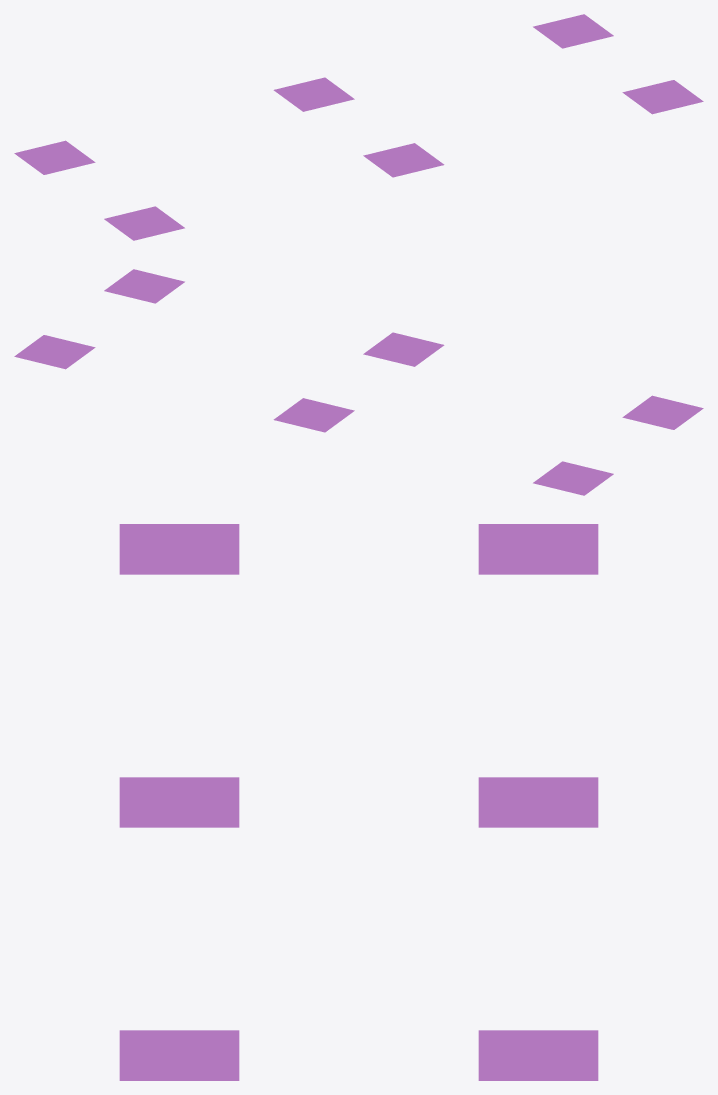
Rendered from sm_Stationfloor.fbx.
3 renders of one model, top to bottom at view 1: azimuth 30°, elevation 25°; view 2: azimuth 150°, elevation 25°; view 3: azimuth 270°, elevation 25°, orthographic. The views are drawn at different scales.
Parts seen in each view (by area): view 1: sm_KitchenFloor04__4_, sm_KitchenFloor04__1_, sm_KitchenFloor04__5_, sm_KitchenFloor04__2_, sm_KitchenFloor04__6_, sm_KitchenFloor04__3_; view 2: sm_KitchenFloor04__6_, sm_KitchenFloor04__3_, sm_KitchenFloor04__5_, sm_KitchenFloor04__2_, sm_KitchenFloor04__4_, sm_KitchenFloor04__1_; view 3: sm_KitchenFloor04__6_, sm_KitchenFloor04__5_, sm_KitchenFloor04__4_, sm_KitchenFloor04__3_, sm_KitchenFloor04__2_, sm_KitchenFloor04__1_.
Part boxes in pixels (x1=…): sm_KitchenFloor04__4_: x1=533, y1=14, x2=613, y2=48; sm_KitchenFloor04__1_: x1=104, y1=206, x2=184, y2=240; sm_KitchenFloor04__5_: x1=273, y1=77, x2=354, y2=111; sm_KitchenFloor04__2_: x1=363, y1=143, x2=444, y2=177; sm_KitchenFloor04__6_: x1=14, y1=140, x2=95, y2=174; sm_KitchenFloor04__3_: x1=622, y1=80, x2=703, y2=114; sm_KitchenFloor04__6_: x1=533, y1=461, x2=613, y2=495; sm_KitchenFloor04__3_: x1=104, y1=269, x2=184, y2=303; sm_KitchenFloor04__5_: x1=273, y1=398, x2=354, y2=432; sm_KitchenFloor04__2_: x1=363, y1=332, x2=444, y2=366; sm_KitchenFloor04__4_: x1=14, y1=335, x2=95, y2=369; sm_KitchenFloor04__1_: x1=622, y1=395, x2=703, y2=429; sm_KitchenFloor04__6_: x1=478, y1=524, x2=598, y2=574; sm_KitchenFloor04__5_: x1=478, y1=777, x2=598, y2=827; sm_KitchenFloor04__4_: x1=478, y1=1030, x2=598, y2=1080; sm_KitchenFloor04__3_: x1=119, y1=1030, x2=239, y2=1080; sm_KitchenFloor04__2_: x1=119, y1=777, x2=239, y2=827; sm_KitchenFloor04__1_: x1=119, y1=524, x2=239, y2=574.
Bounding box in the file's own units: 2200 × 0.000122 × 799.
